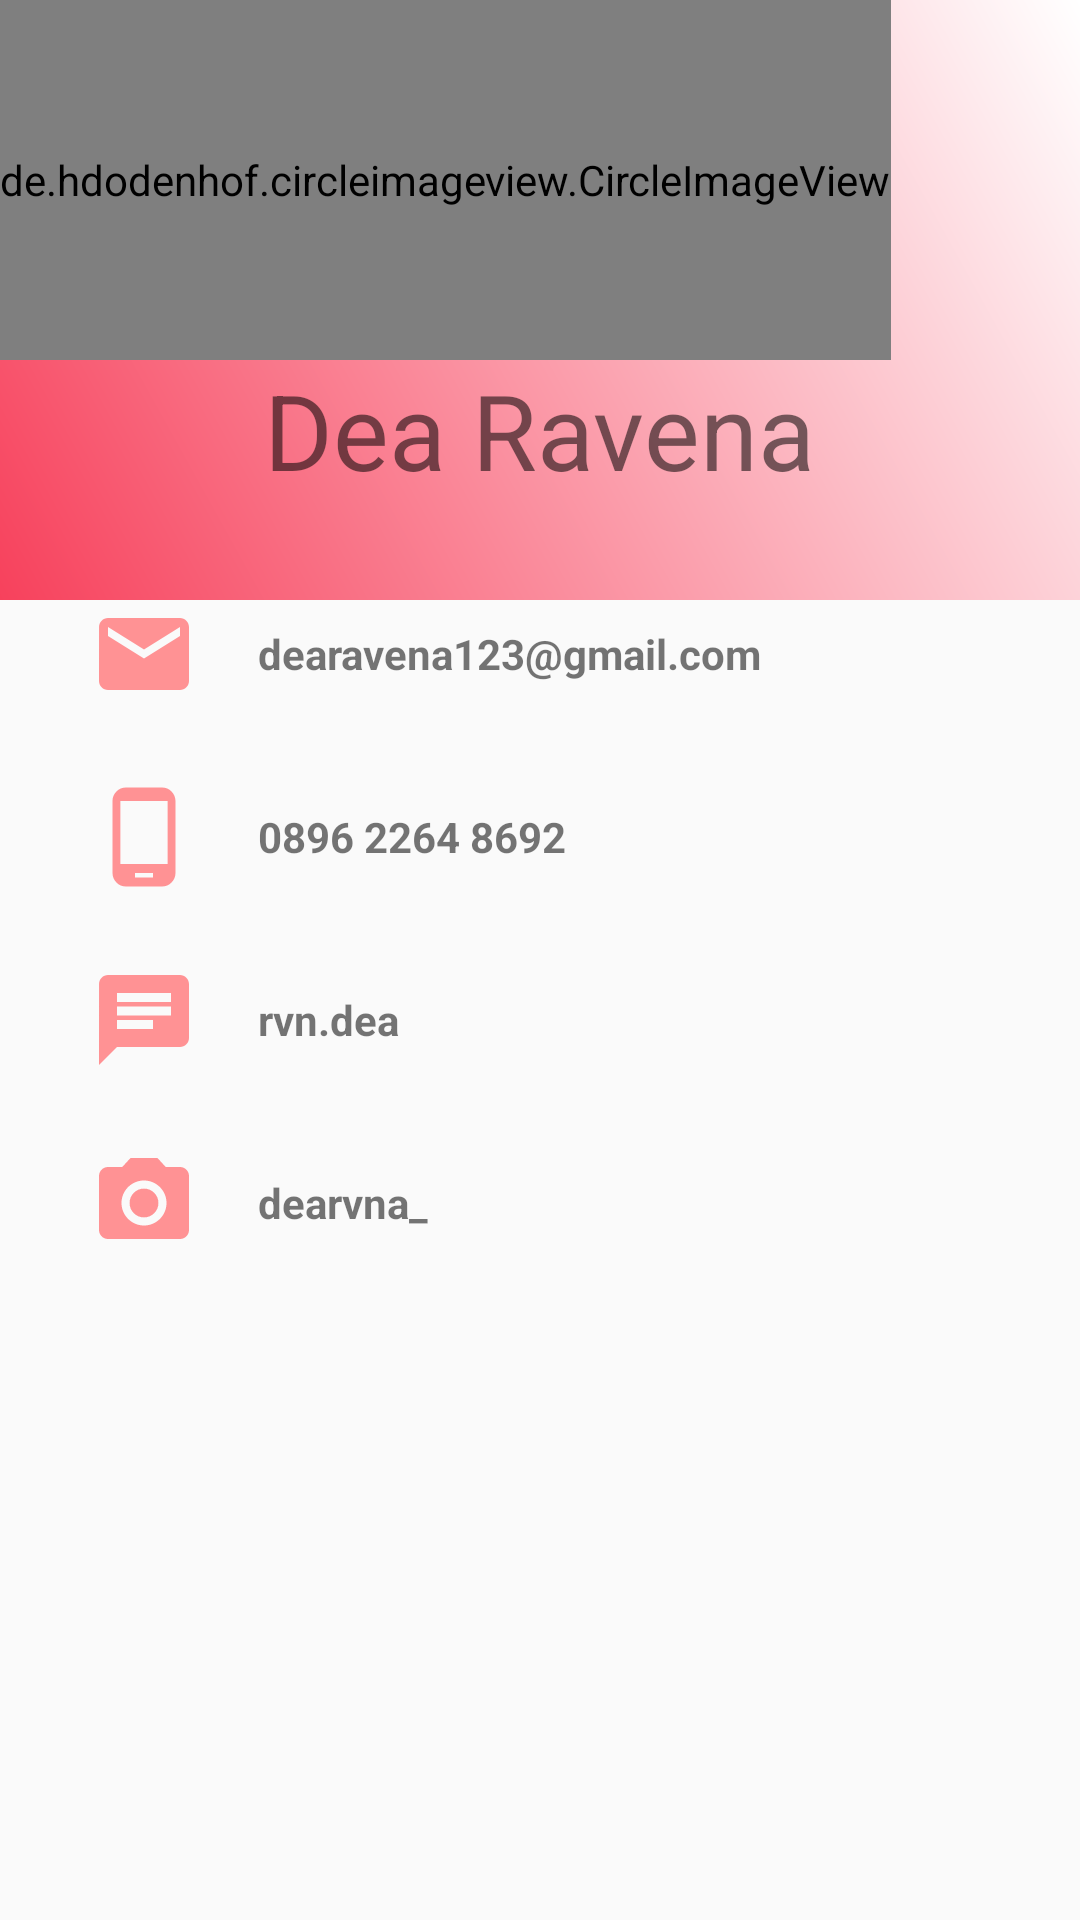

Point at icon controls on the screen. Image size 1080x1920, points as [x,y].
camera: [144,1198]
chat: [144,1020]
email: [144,654]
phone android: [144,837]
